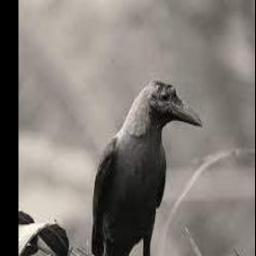Crow: (91, 79, 203, 256)
